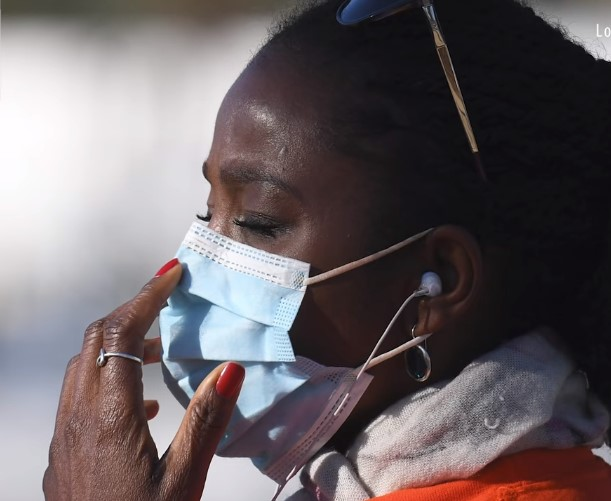face_with_mask: (150, 3, 510, 481)
